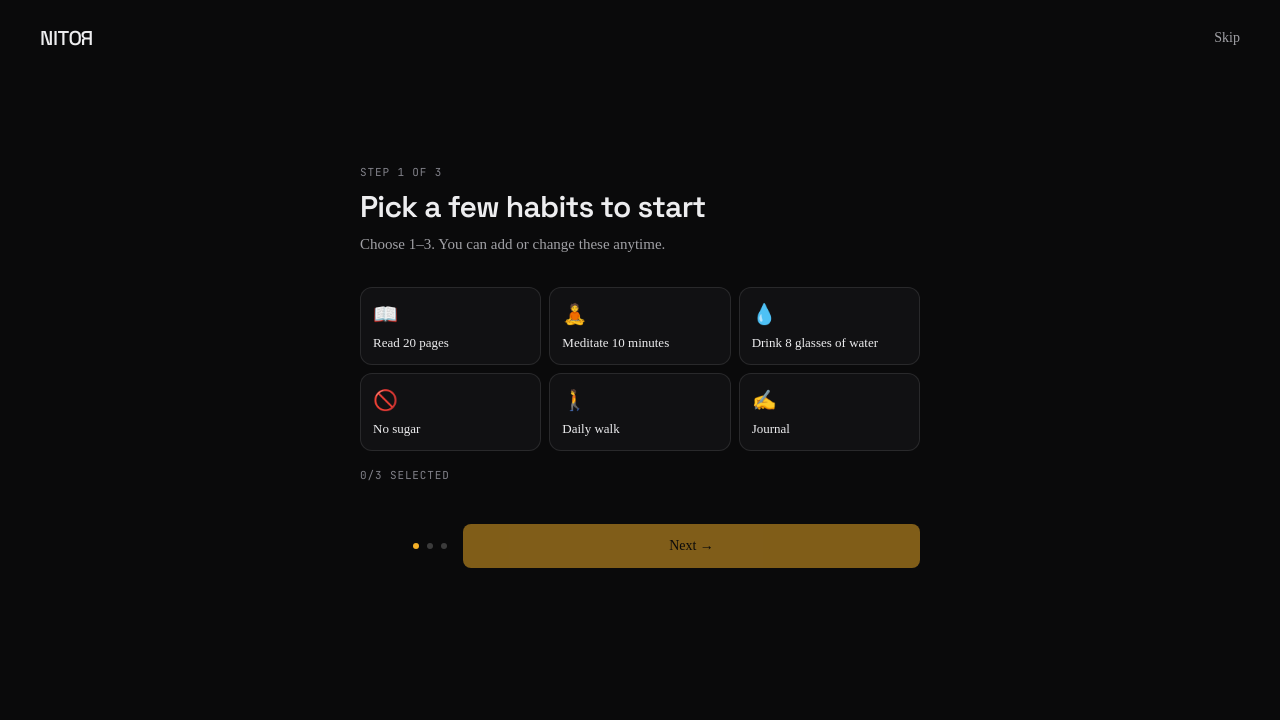
Test: OnboardingPage › when the completion write fails › keeps the user on the page and shows a retryable error (returned error)
Click the button "📖 Read 20 pages" at (451, 326), box x1=360 y1=287 x2=541 y2=365
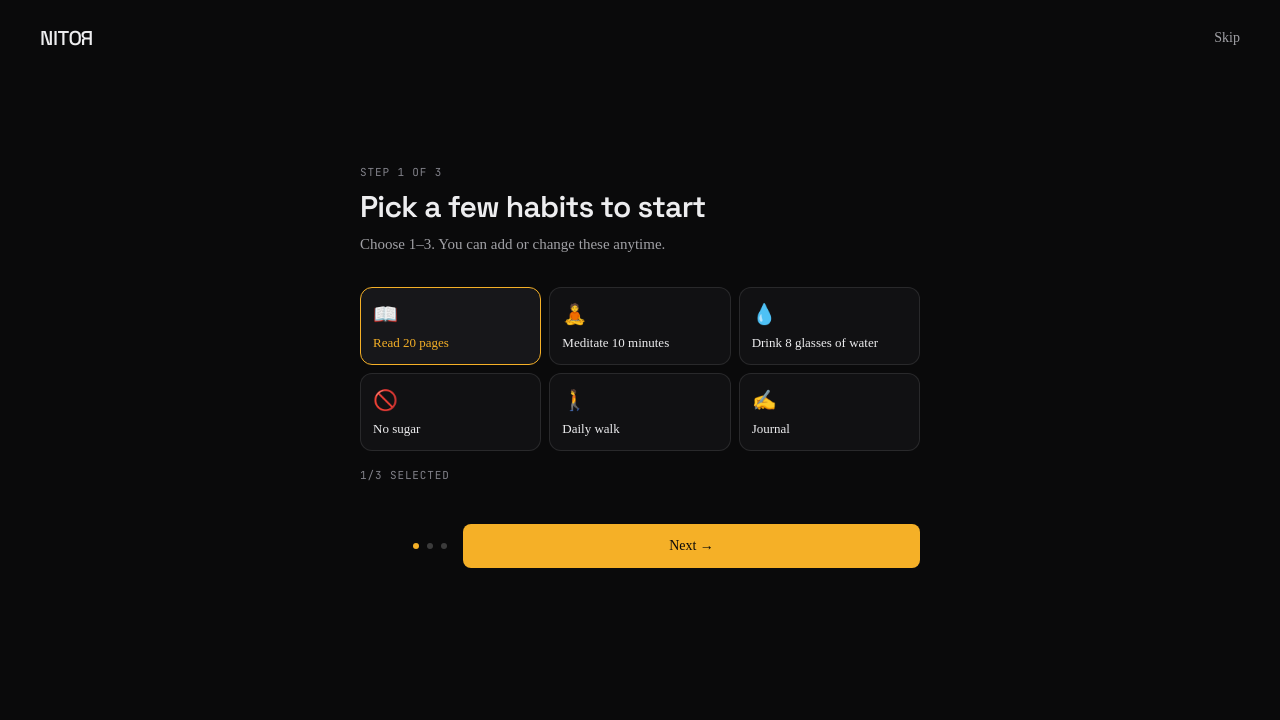
Click the button "Next →" at (692, 546), box x1=463 y1=524 x2=920 y2=568
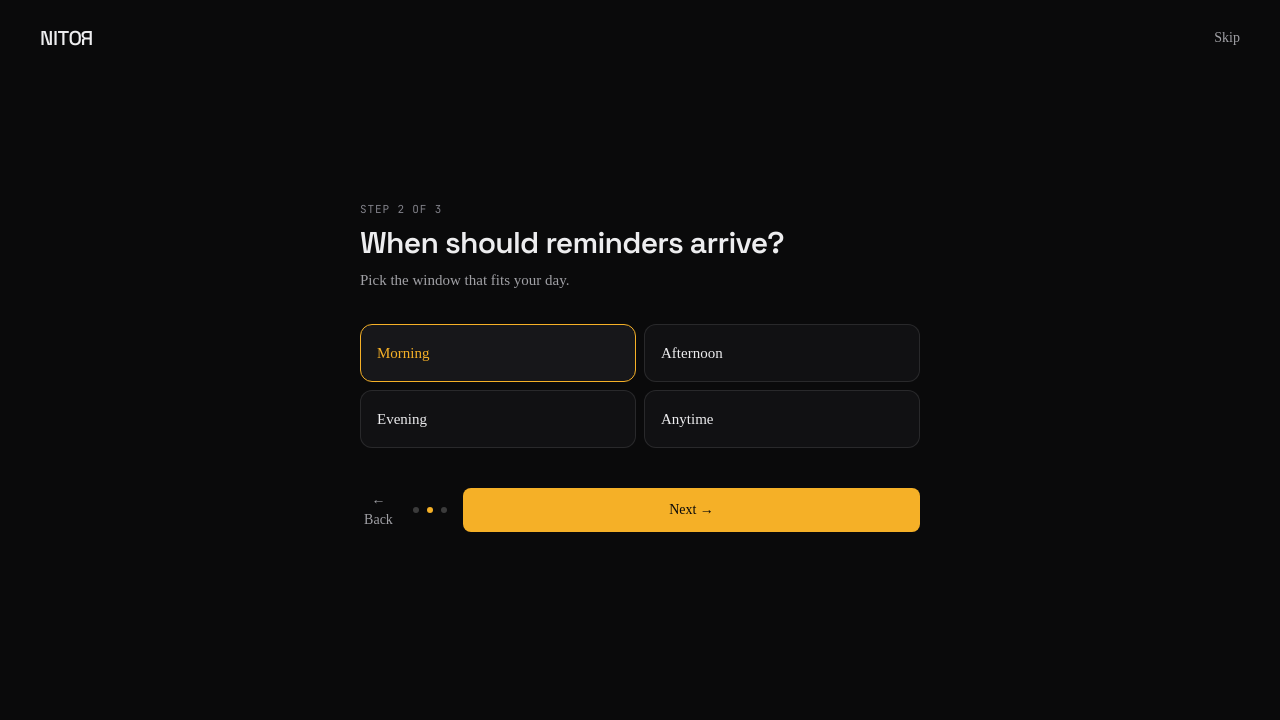
Click the button "Next →" at (692, 510), box x1=463 y1=488 x2=920 y2=532
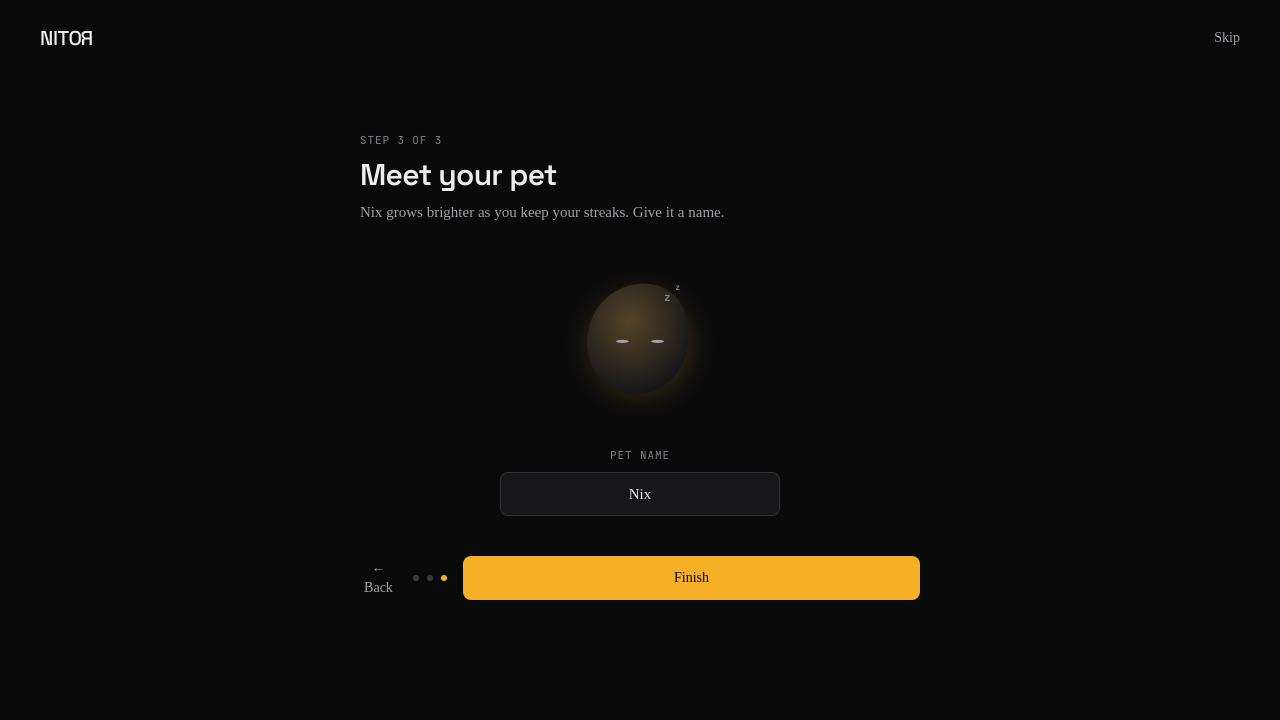
Click the button "Finish" at (692, 578), box x1=463 y1=556 x2=920 y2=600
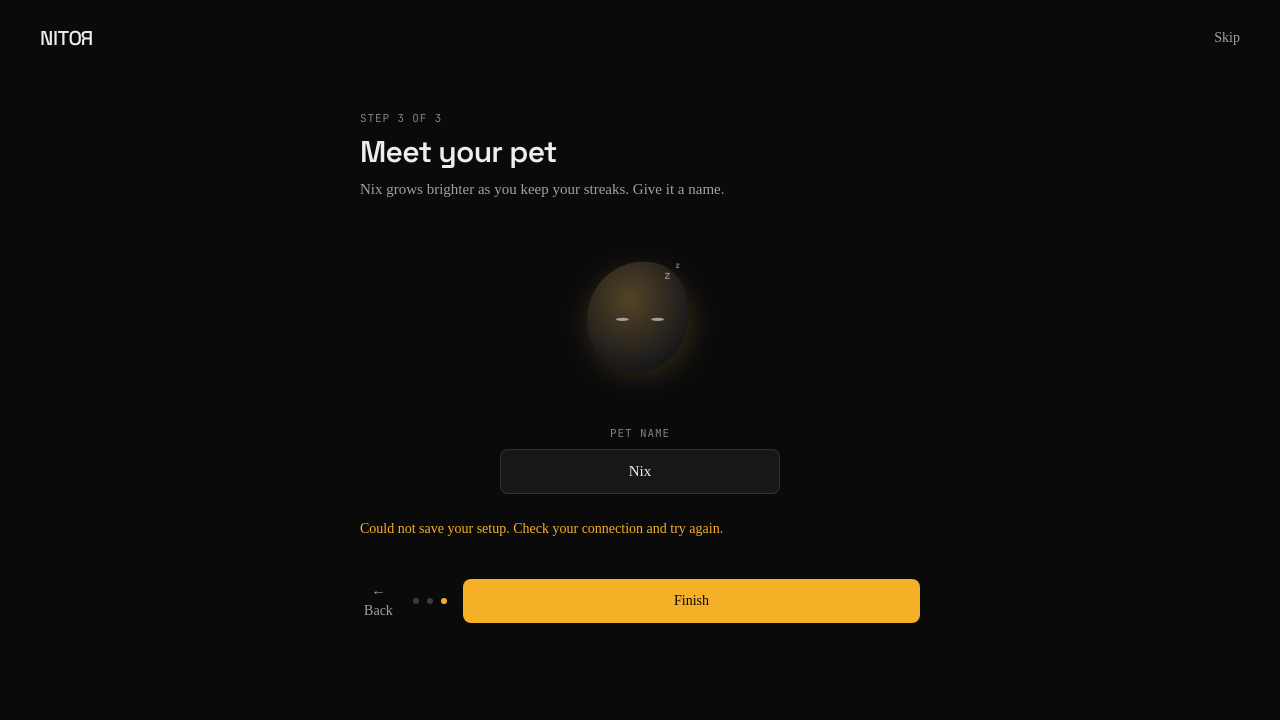
Now the message shows "Could not save your setup", box x1=360 y1=520 x2=723 y2=536
